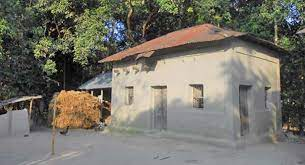Mud House: (100, 23, 289, 148)
